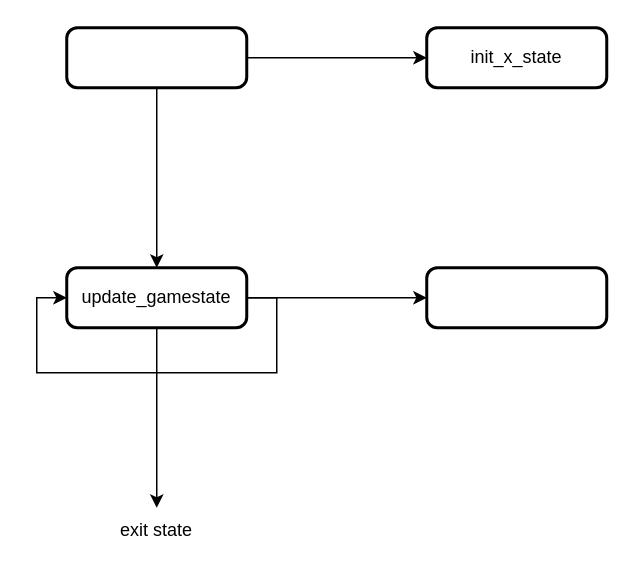
Some shapes in this 635 by 578 pixel diagram are drawn without their labels. The shapes that lost their labels are listed below. From the top down, each one's box as (x1, y1, x2, y2) in pixels, then its label:
(64, 26, 248, 88): change_gamestate
(424, 266, 608, 328): update_x_state
